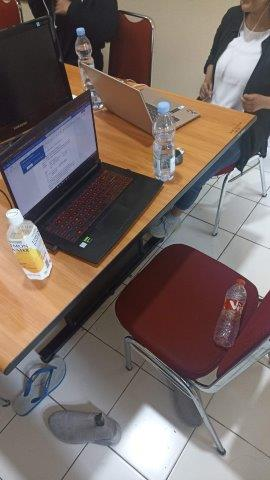botolplastik: (5, 210, 52, 279), (75, 27, 103, 108), (151, 102, 178, 184), (215, 280, 247, 349)
